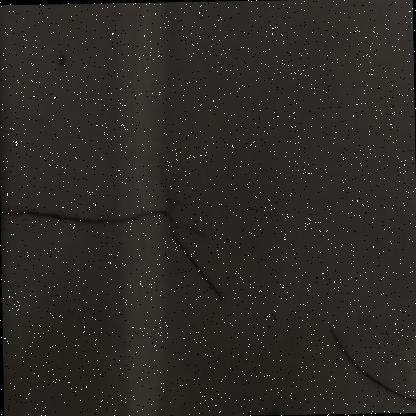Crack: (0, 160, 257, 319), (303, 313, 415, 414)
